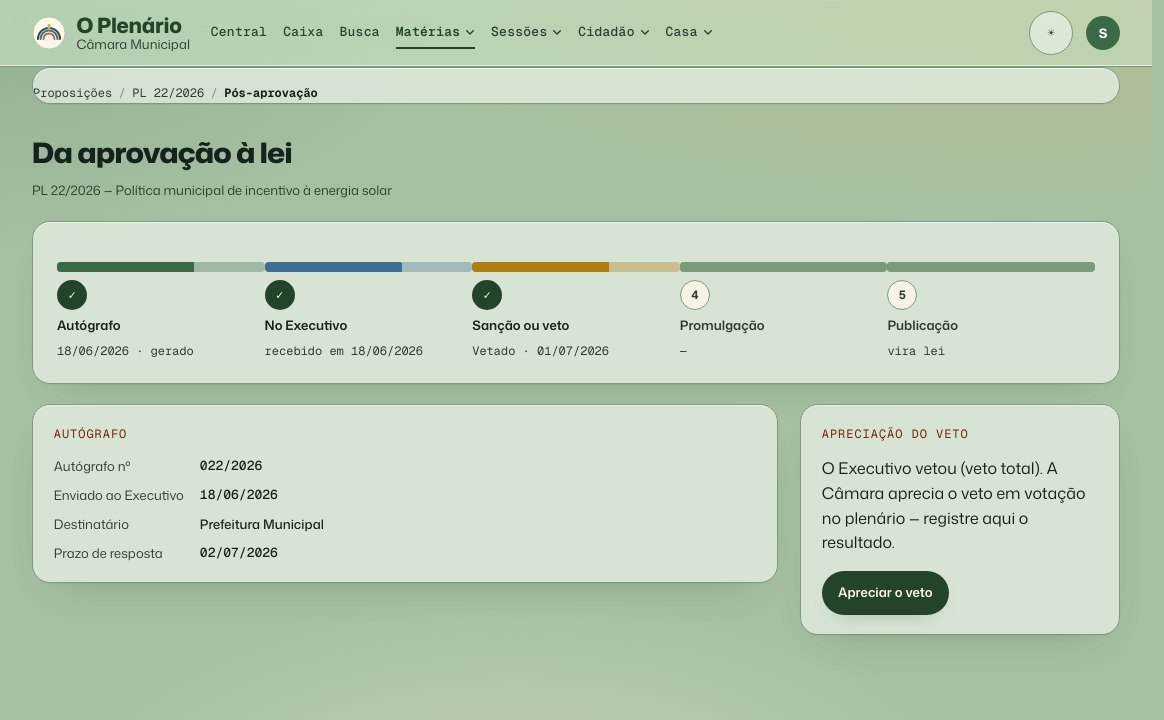
Test: ConteudoPosAprovacao › estado 'vetado' -> mostra 'Apreciação do veto' e o fluxo de apreciar (derrubar) leva ao Desfecho
Expected: the heading "Apreciação do veto" is shown, [822,426,969,442]
Click the button "Apreciar o veto" at (885, 593), box [822,571,949,615]
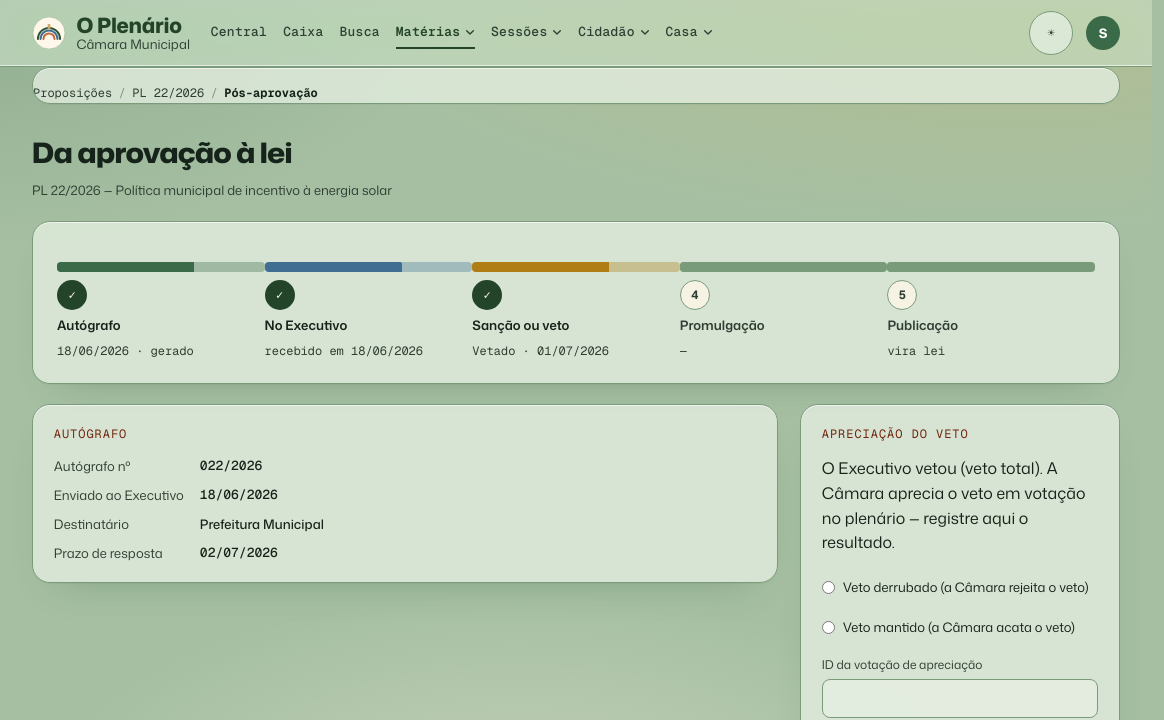
Click the radio button labelled "Veto derrubado (a Câmara rejeita o veto)" at (828, 587), box [822,581,835,594]
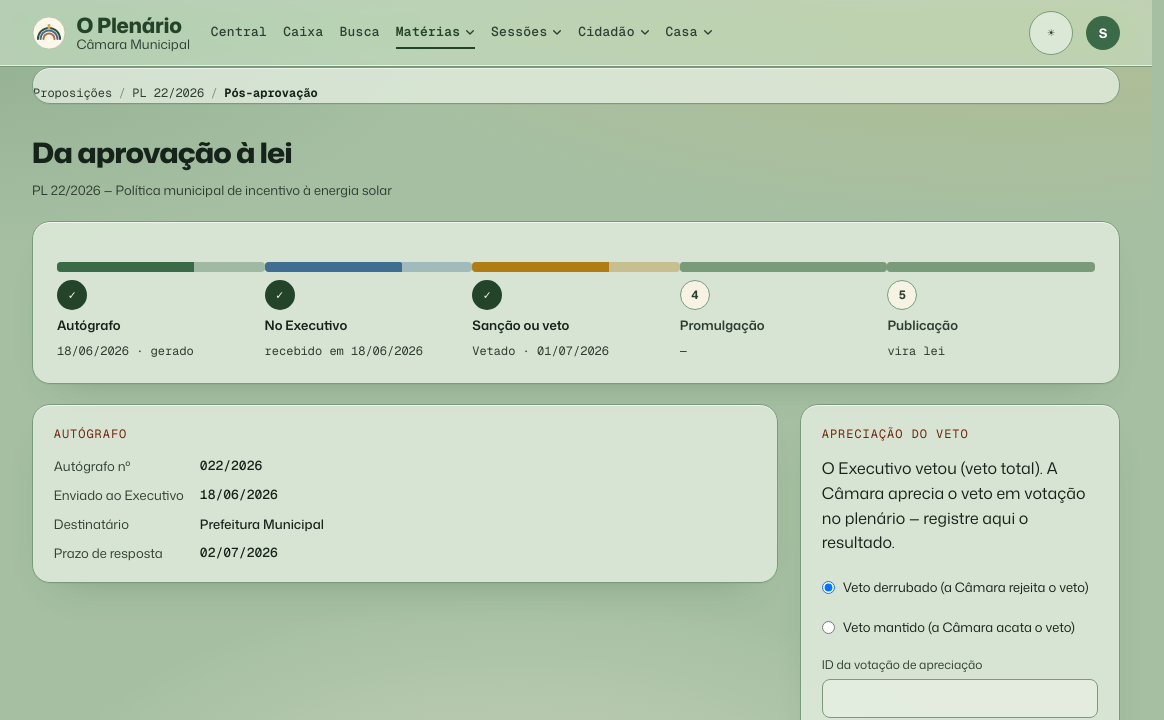
Type "vt-1" into the field labelled "ID da votação de apreciação" at (960, 698), box [822,679,1098,718]
(page scrolled)
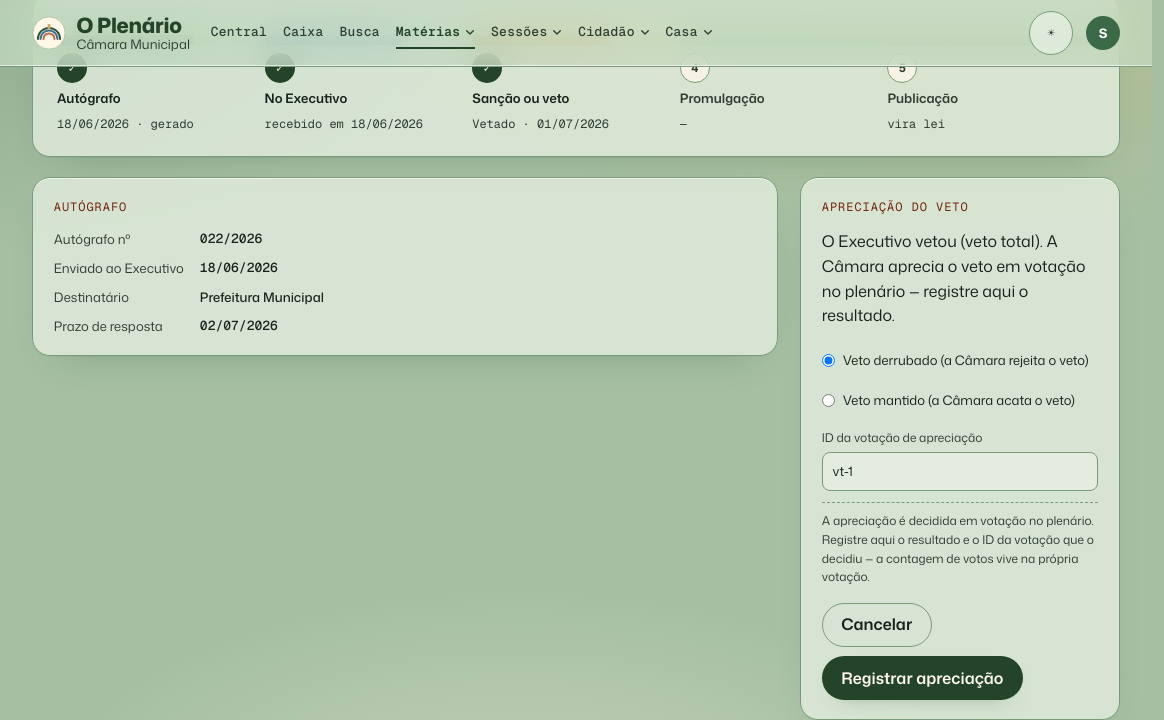
Click the button "Registrar apreciação" at (922, 678), box [822,656,1023,700]
(page scrolled)
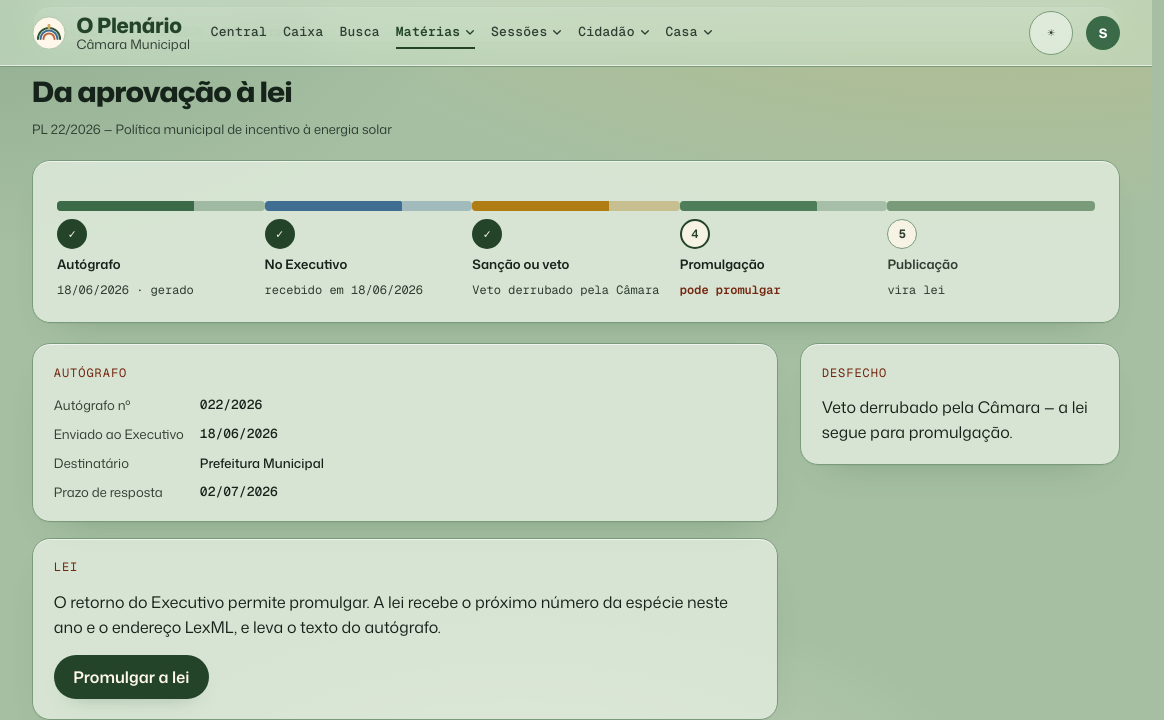
Result: the heading "Desfecho" is shown at [822,365,887,381]
Result: the text "Veto derrubado pela Câmara — a lei segue para promulgação." is shown at [822,395,1098,445]
Result: the button "Registrar apreciação" is gone
